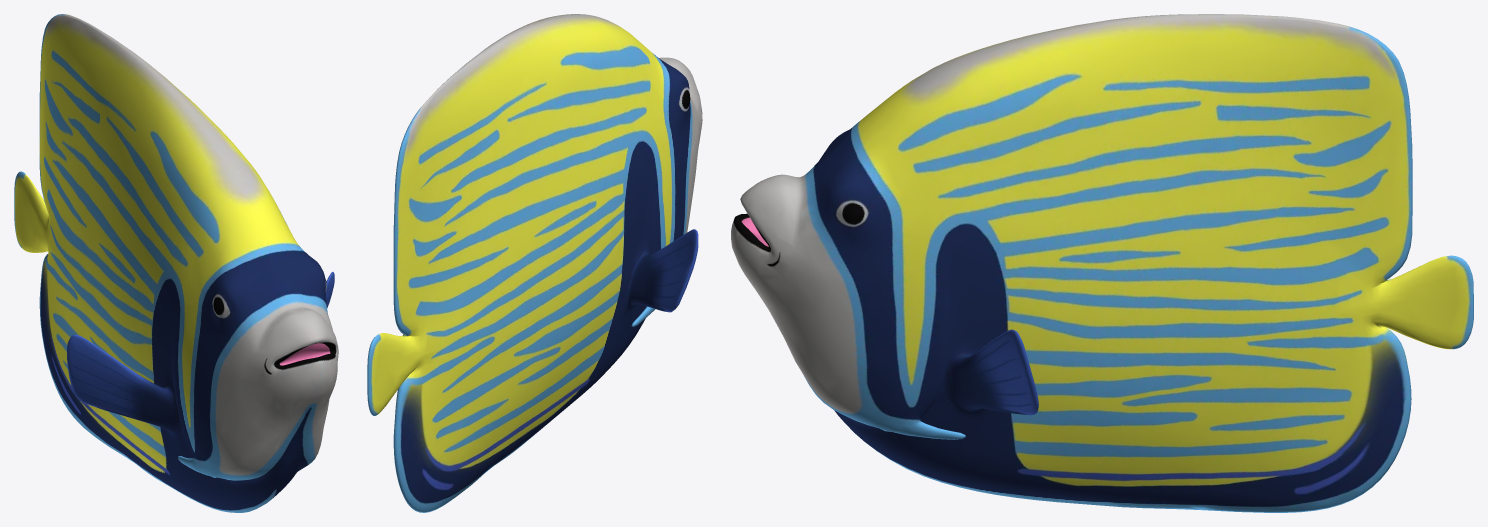
File: emperor-angelfish_lod1.glb
3 renders of one model, left to right at view 1: azimuth 30°, elevation 25°; view 2: azimuth 150°, elevation 25°; view 3: azimuth 270°, elevation 25°, orthographic. The views are drawn at different scales.
Parts seen in each view (by area): view 1: angel_fish_3.1; view 2: angel_fish_3.1; view 3: angel_fish_3.1.
Boxes of the visible parts, bbox=[...] form: angel_fish_3.1: bbox=[14, 14, 338, 512]; angel_fish_3.1: bbox=[367, 14, 702, 512]; angel_fish_3.1: bbox=[731, 14, 1473, 512].
Size of the model in its own units: 0.022 by 0.0326 by 0.0439.
Materials: 1 (1 with a texture image).
